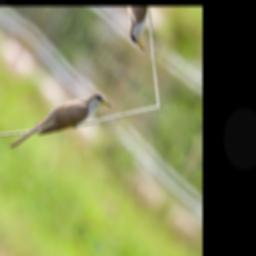Cuckoo: (6, 56, 114, 196)
